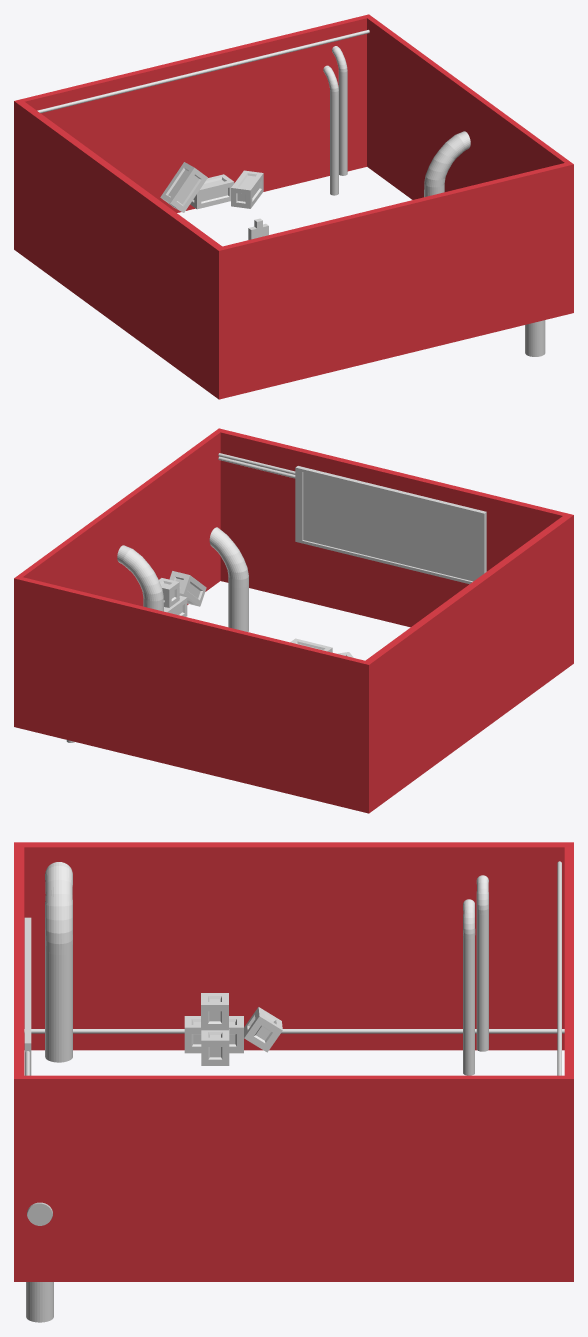
File: Arena2averahora.fbx
3 views of the same model, one above another, from view 1: azimuth 30°, elevation 25°; view 2: azimuth 150°, elevation 25°; view 3: azimuth 270°, elevation 25° (orthographic). The views are drawn at different scales.
Visible parts, largest first — view 1: paredes, Cilindro.010, Cilindro, caja G.004, Cilindro.001, Cilindro.002, caja G.003, caja G.002, Cilindro.012; view 2: paredes, Cubo, Cilindro.012, Cilindro, caja G.001; view 3: paredes, Cilindro.007, Cilindro.008, Cilindro.009, Cilindro.011, Cilindro.012, Cubo, caja.004, Cilindro.010, caja.003, caja.005, caja.001.
Boxes of the visible parts, x1,y1,x2,y2 form: paredes: [14, 14, 573, 399]; Cilindro.010: [37, 29, 369, 113]; Cilindro: [424, 131, 470, 197]; caja G.004: [160, 162, 207, 212]; Cilindro.001: [332, 46, 347, 175]; Cilindro.002: [323, 65, 338, 195]; caja G.003: [231, 170, 263, 208]; caja G.002: [190, 174, 234, 209]; Cilindro.012: [525, 320, 545, 356]; paredes: [14, 428, 573, 813]; Cubo: [295, 466, 486, 584]; Cilindro.012: [209, 527, 248, 631]; Cilindro: [117, 545, 163, 611]; caja G.001: [169, 571, 206, 606]; paredes: [14, 842, 573, 1281]; Cilindro.007: [45, 862, 72, 1062]; Cilindro.008: [476, 875, 488, 1051]; Cilindro.009: [463, 899, 475, 1075]; Cilindro.011: [24, 1029, 564, 1033]; Cilindro.012: [26, 1202, 53, 1322]; Cubo: [24, 917, 31, 1075]; caja.004: [244, 1007, 282, 1052]; Cilindro.010: [557, 861, 561, 1075]; caja.003: [201, 993, 228, 1030]; caja.005: [201, 1029, 229, 1065]; caja.001: [184, 1016, 201, 1053].
Size of the model in its own units: 4033 by 2026 by 4000.
